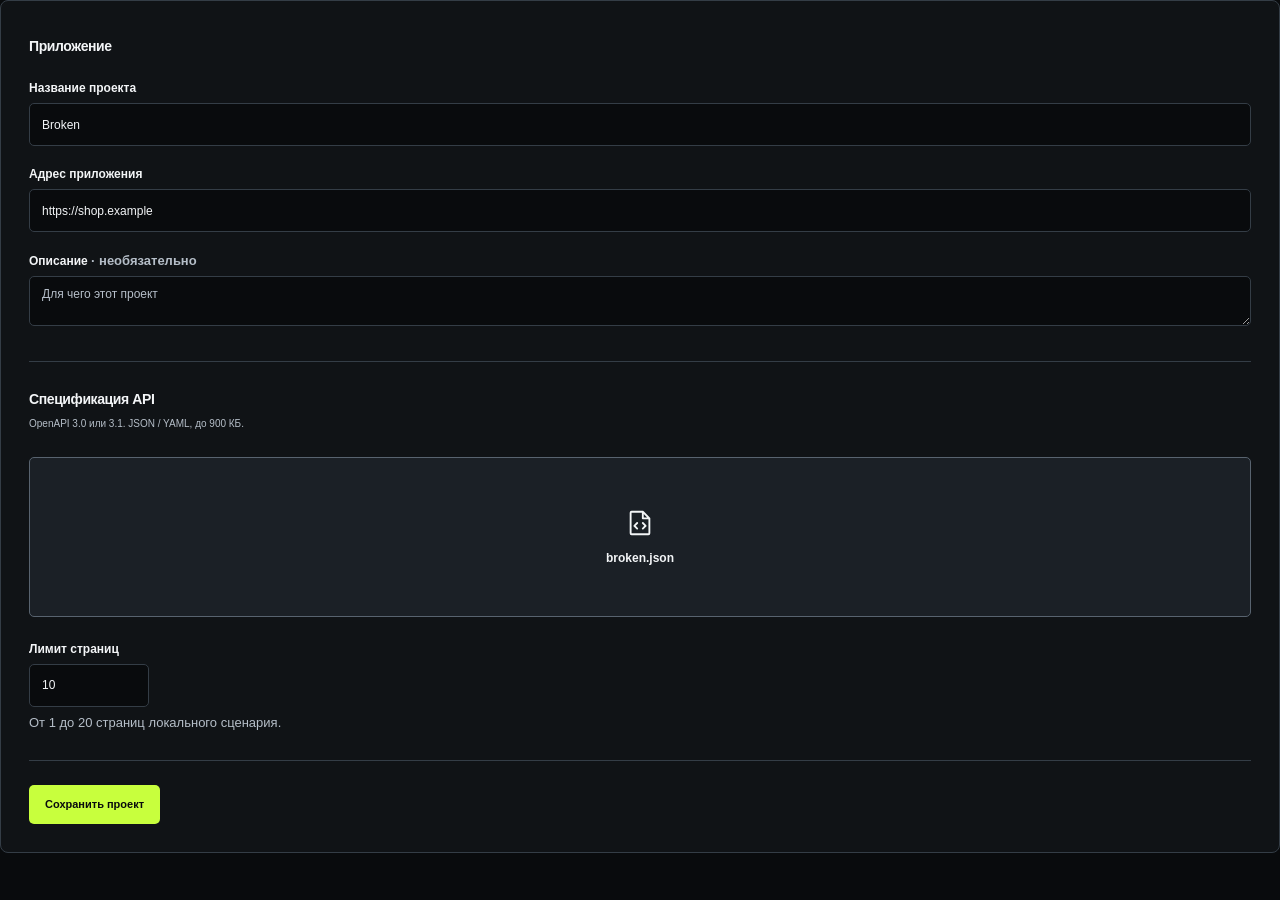
Scenario: rejects an incomplete OpenAPI document before saving
Earlier steps of the test are not shown.
Click the button "Сохранить проект". click: coordinates (95, 804)
box: [29,784,160,824]
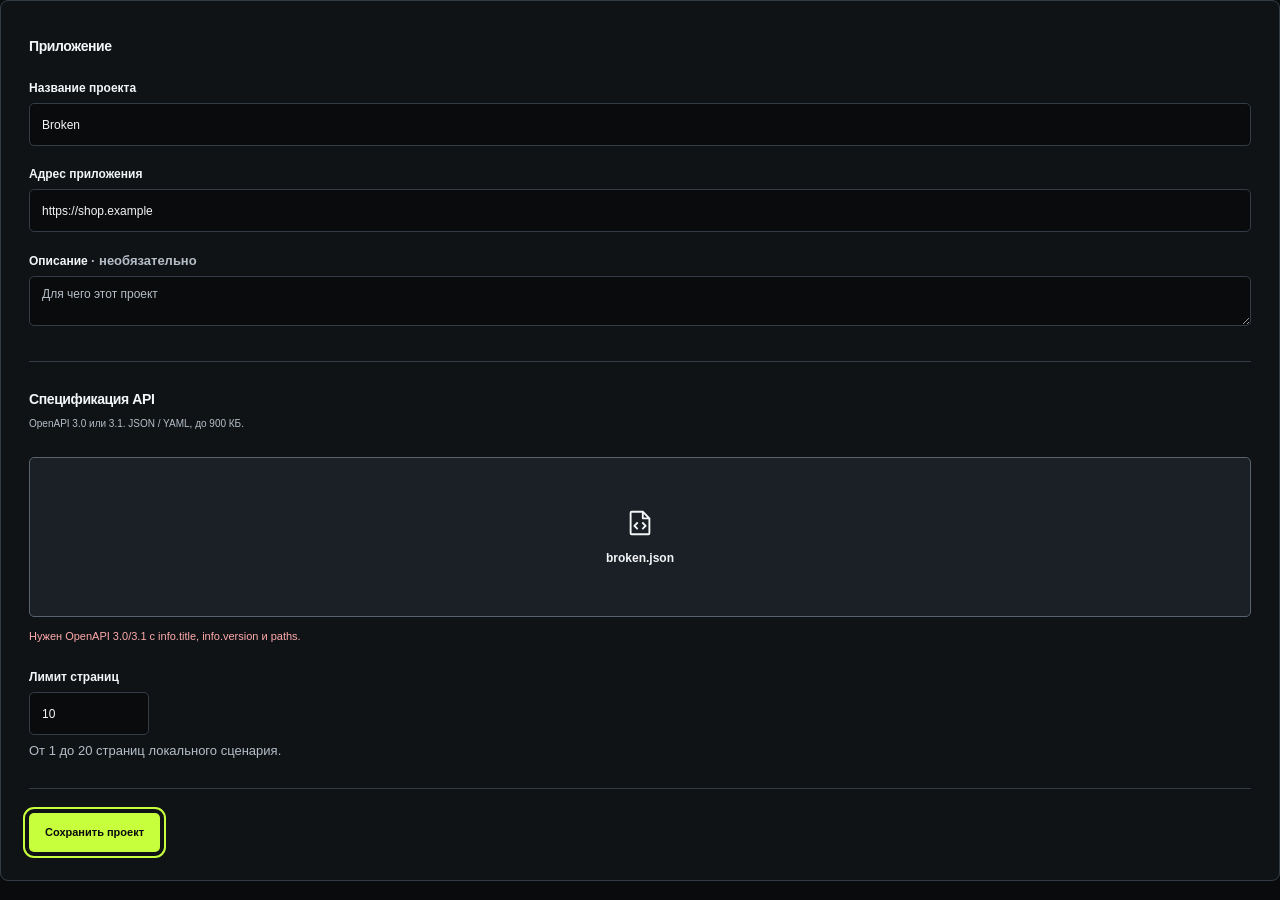
Check: the message shows "info.title", box [29,630,301,642]
